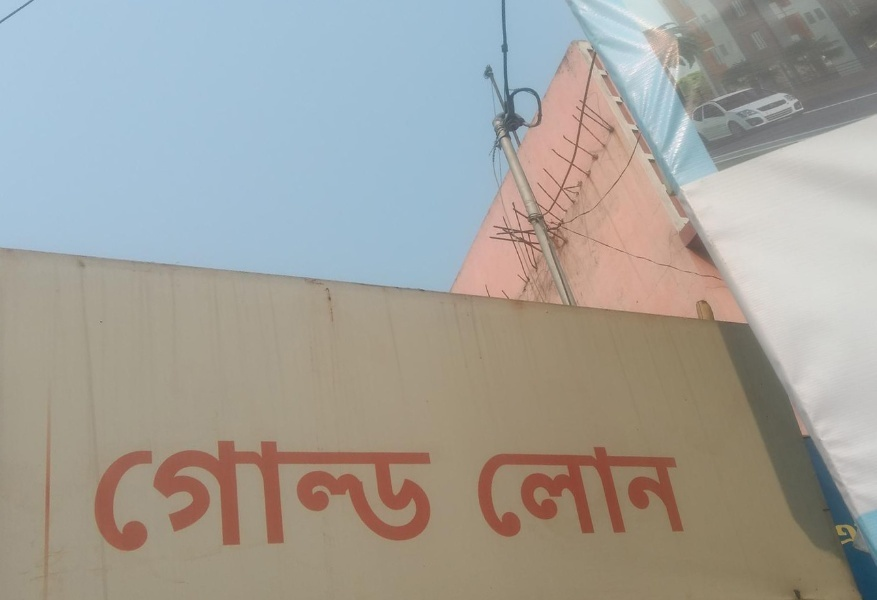text: (97, 439, 112, 550), (113, 439, 128, 550), (129, 439, 144, 550), (145, 439, 160, 550), (161, 439, 176, 550), (177, 439, 192, 550), (193, 439, 208, 550), (209, 439, 224, 550), (225, 439, 240, 550), (241, 439, 256, 550), (257, 439, 272, 550), (273, 439, 288, 550), (289, 439, 304, 550), (305, 439, 320, 550), (321, 439, 336, 550), (337, 439, 352, 550), (353, 439, 368, 550), (369, 439, 384, 550), (385, 439, 400, 550), (401, 439, 416, 550), (417, 439, 432, 550), (481, 447, 496, 539), (497, 447, 512, 539), (513, 447, 528, 539), (529, 447, 544, 539), (545, 447, 560, 539), (561, 447, 576, 539), (577, 447, 592, 539), (593, 447, 608, 539), (609, 447, 624, 539), (625, 447, 640, 539), (641, 447, 656, 539), (657, 447, 672, 539), (673, 447, 688, 539), (468, 447, 480, 539), (833, 512, 848, 564), (849, 512, 864, 564), (823, 512, 832, 564), (865, 512, 872, 564), (93, 439, 96, 550), (433, 439, 434, 550)
